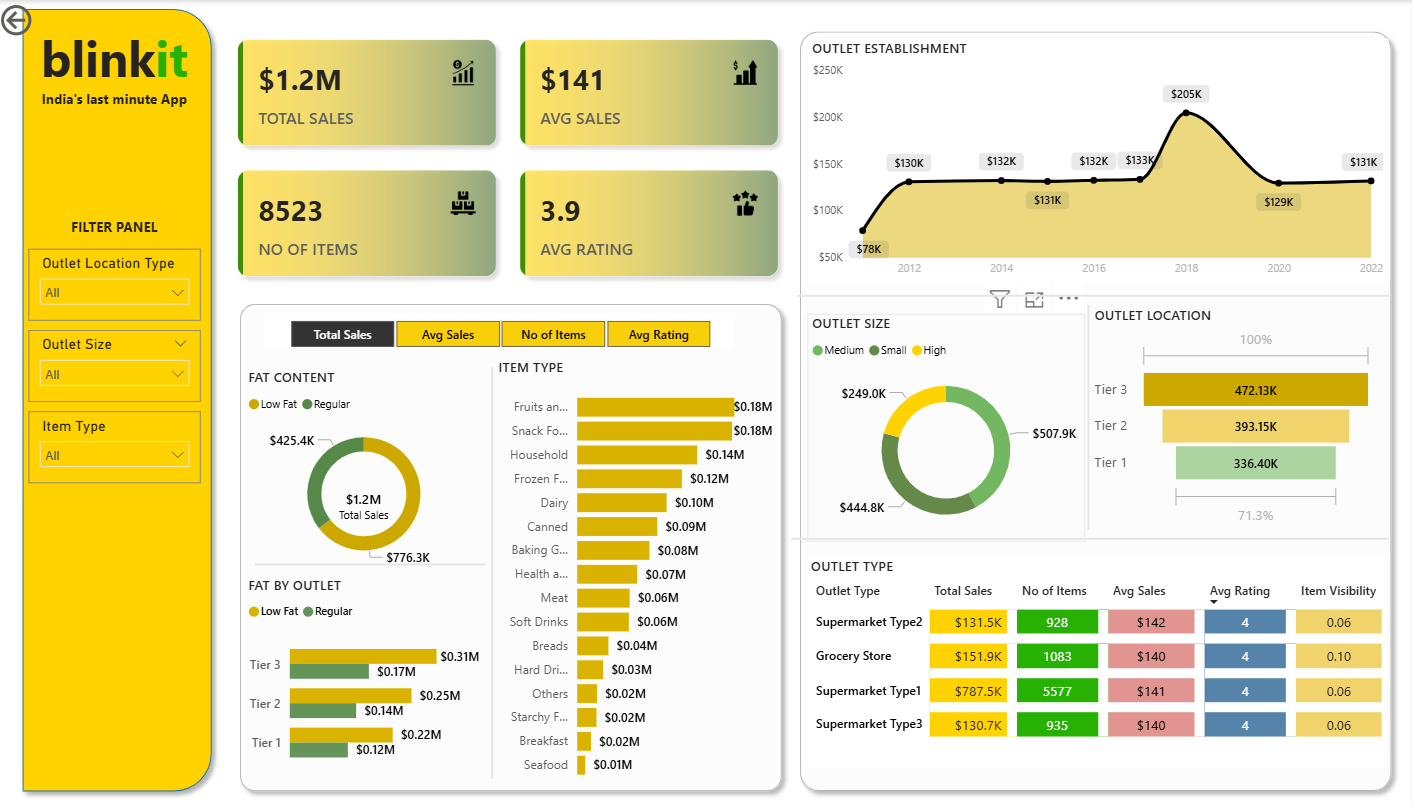

The page's visual inventory and layout, read from the dashboard file:
{"tool":"powerbi","page":{"name":"Dashboard","canvas":[1400,800],"ordinal":0},"visuals":[{"type":"shape","box":[17.4,0,205.1,792.2],"z":0},{"type":"cardVisual","fields":{"Data":["BlinkIT Grocery Data.Total Sales","BlinkIT Grocery Data.Avg Sales","BlinkIT Grocery Data.No of Items","BlinkIT Grocery Data.Avg Rating"]},"box":[222.5,22.8,569.7,269.4],"z":2000},{"type":"shape","box":[233,292,554,500],"z":3000},{"type":"donutChart","title":"FAT CONTENT","fields":{"Y":["BlinkIT Grocery Data.Total Sales"],"Category":["BlinkIT Grocery Data.Item Fat Content"]},"box":[245.3,363.3,238.6,205.1],"z":4000},{"type":"slicer","fields":{"Values":["Metrics.Metrics"]},"box":[265.4,311,465.1,33.5],"z":5000},{"type":"cardVisual","fields":{"Data":["BlinkIT Grocery Data.Total Sales"]},"box":[320.4,458.4,87.1,83.1],"z":6000},{"type":"clusteredBarChart","title":"FAT BY OUTLET","fields":{"Y":["BlinkIT Grocery Data.Total Sales"],"Category":["BlinkIT Grocery Data.Outlet Location Type"],"Series":["BlinkIT Grocery Data.Item Fat Content"]},"box":[245.3,568.4,238.6,202.4],"z":7000},{"type":"shape","box":[256,550.9,227.9,16.1],"z":8000},{"type":"shape","box":[483.9,363.3,14.7,407.5],"z":9000},{"type":"barChart","title":"ITEM TYPE","fields":{"Y":["BlinkIT Grocery Data.Total Sales"],"Category":["BlinkIT Grocery Data.Item Type"]},"box":[492,353.9,281.5,427.6],"z":10000},{"type":"shape","box":[786.9,22.8,603.2,769.4],"z":11000},{"type":"lineChart","title":"OUTLET ESTABLISHMENT","fields":{"Category":["BlinkIT Grocery Data.Outlet Establishment Year"],"Y":["BlinkIT Grocery Data.Total Sales"]},"box":[803,38.9,575.1,244],"z":12000},{"type":"shape","box":[786.9,524.1,591.2,17.4],"z":13000},{"type":"donutChart","title":"OUTLET SIZE","fields":{"Y":["BlinkIT Grocery Data.Total Sales"],"Category":["BlinkIT Grocery Data.Outlet Size"]},"box":[803,311,274.8,225.2],"z":14000},{"type":"shape","box":[1073.7,301.6,14.7,222.5],"z":15000},{"type":"funnel","title":"OUTLET LOCATION","fields":{"Y":["Sum(BlinkIT Grocery Data.Sales)"],"Category":["BlinkIT Grocery Data.Outlet Location Type"]},"box":[1081.8,301.6,285.5,222.5],"z":16000},{"type":"shape","box":[792.2,282.8,585.8,18.8],"z":17000},{"type":"pivotTable","title":"OUTLET TYPE","fields":{"Values":["BlinkIT Grocery Data.Total Sales","BlinkIT Grocery Data.No of Items","BlinkIT Grocery Data.Avg Sales","BlinkIT Grocery Data.Avg Rating","Avg(BlinkIT Grocery Data.Item Visibility)"],"Rows":["BlinkIT Grocery Data.Outlet Type"]},"box":[801.6,550.9,576.4,209.1],"z":18000},{"type":"actionButton","box":[0,0,100,40],"z":19000},{"type":"slicer","fields":{"Values":["BlinkIT Grocery Data.Outlet Location Type"]},"box":[32.2,246.7,170.2,71],"z":20000},{"type":"slicer","fields":{"Values":["BlinkIT Grocery Data.Outlet Size"]},"box":[32.2,327.1,170.2,71],"z":21000},{"type":"slicer","fields":{"Values":["BlinkIT Grocery Data.Item Type"]},"box":[32.2,407.5,170.2,71],"z":22000},{"type":"textbox","box":[32.2,210.5,170.2,36.2],"z":23000},{"type":"textbox","box":[32.2,20.1,170.2,93.8],"z":24000}]}

Visuals, with their boxes on the page's 1400x800 design canvas (x1, y1, x2, y2). These are canvas units, not pixel positions in the 1412x806 screenshot, which may show the page scaled, cropped or inside an application window:
shape: bbox=(17, 0, 222, 792)
cardVisual - BlinkIT Grocery Data.Total Sales x BlinkIT Grocery Data.Avg Sales: bbox=(222, 23, 792, 292)
shape: bbox=(233, 292, 787, 792)
"FAT CONTENT" donutChart: bbox=(245, 363, 484, 568)
slicer - Metrics.Metrics: bbox=(265, 311, 730, 344)
cardVisual - BlinkIT Grocery Data.Total Sales: bbox=(320, 458, 408, 542)
"FAT BY OUTLET" clusteredBarChart: bbox=(245, 568, 484, 771)
shape: bbox=(256, 551, 484, 567)
shape: bbox=(484, 363, 499, 771)
"ITEM TYPE" barChart: bbox=(492, 354, 774, 782)
shape: bbox=(787, 23, 1390, 792)
"OUTLET ESTABLISHMENT" lineChart: bbox=(803, 39, 1378, 283)
shape: bbox=(787, 524, 1378, 542)
"OUTLET SIZE" donutChart: bbox=(803, 311, 1078, 536)
shape: bbox=(1074, 302, 1088, 524)
"OUTLET LOCATION" funnel: bbox=(1082, 302, 1367, 524)
shape: bbox=(792, 283, 1378, 302)
"OUTLET TYPE" pivotTable: bbox=(802, 551, 1378, 760)
actionButton: bbox=(0, 0, 100, 40)
slicer - BlinkIT Grocery Data.Outlet Location Type: bbox=(32, 247, 202, 318)
slicer - BlinkIT Grocery Data.Outlet Size: bbox=(32, 327, 202, 398)
slicer - BlinkIT Grocery Data.Item Type: bbox=(32, 408, 202, 478)
textbox: bbox=(32, 210, 202, 247)
textbox: bbox=(32, 20, 202, 114)
